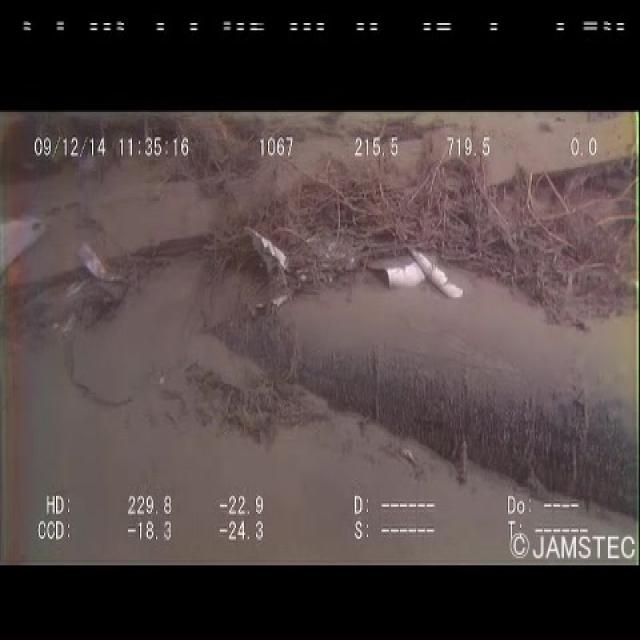plastic: (240, 217, 349, 309), (360, 233, 472, 313), (68, 233, 136, 323)
